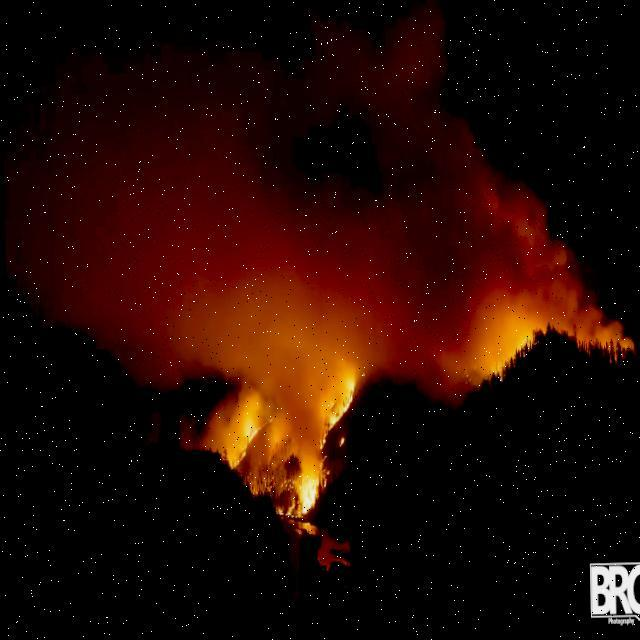Fire: (274, 457, 328, 518), (316, 384, 354, 450), (230, 424, 262, 472)
